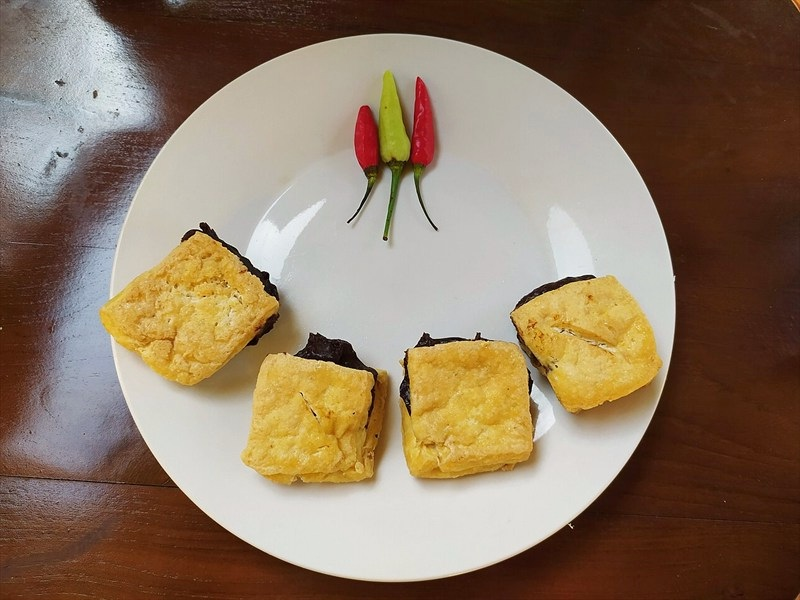Tahu Goreng: (97, 94, 673, 556)
